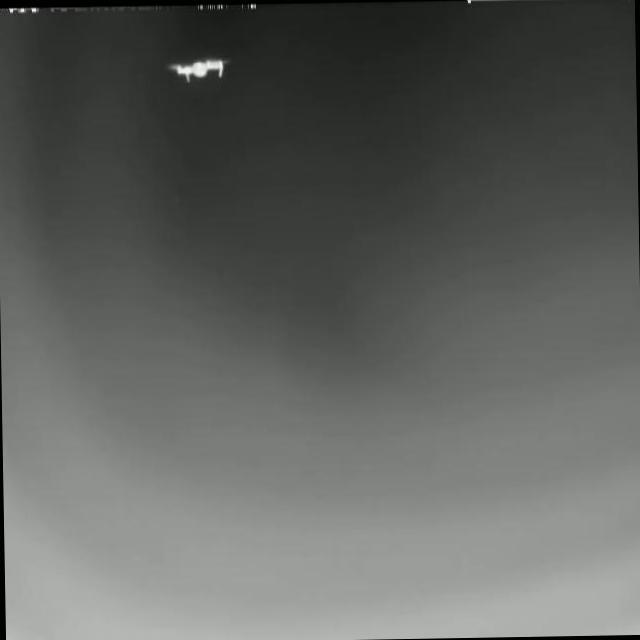DRONE: (168, 55, 230, 83)
